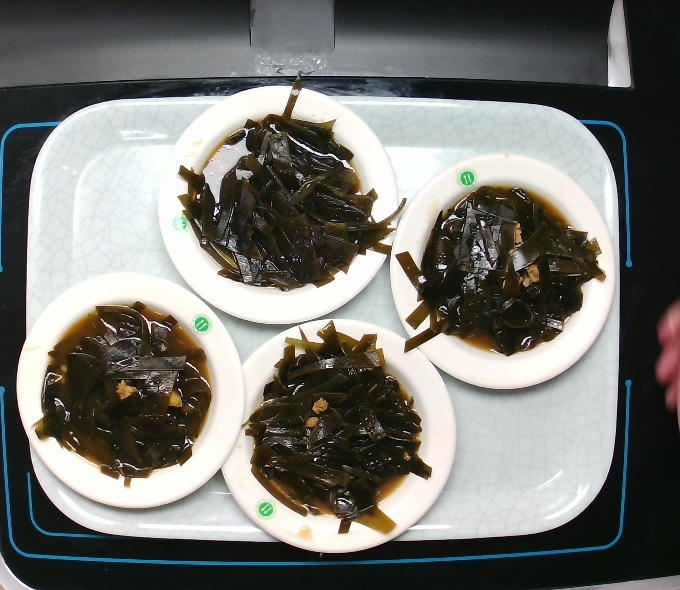wcq-HaiDai: (244, 330, 429, 523), (190, 114, 382, 290), (411, 181, 600, 354), (41, 302, 209, 480)
